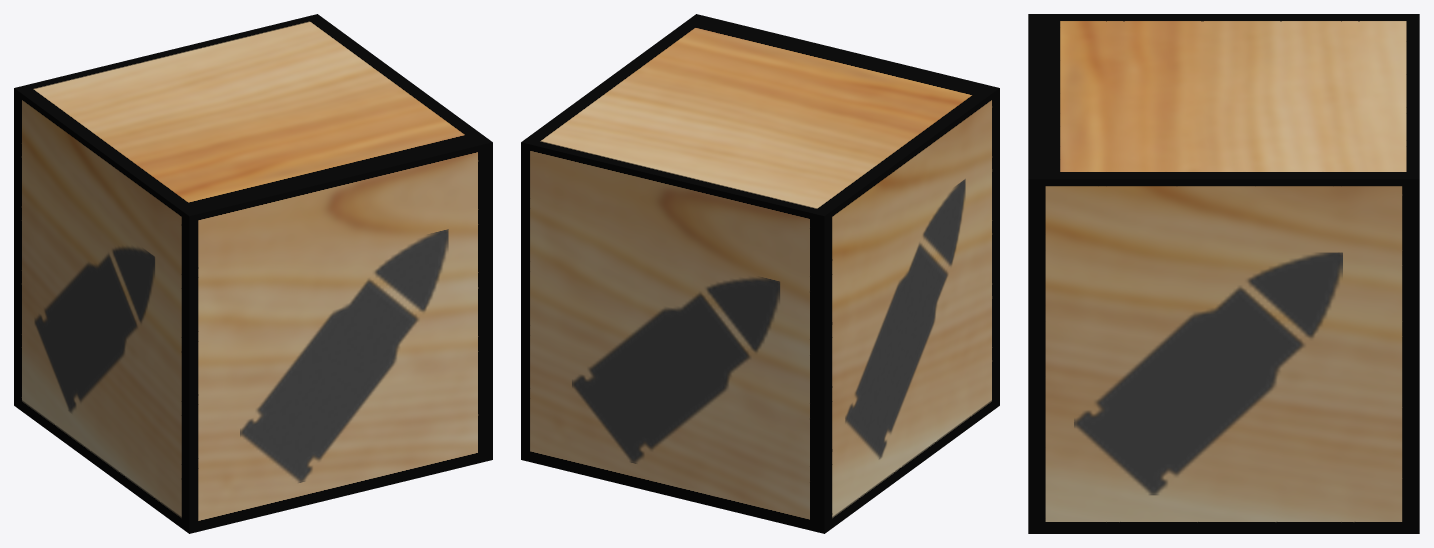
Rendered from ItemBox.FBX.
3 views of the same model, side by side, from view 1: azimuth 30°, elevation 25°; view 2: azimuth 150°, elevation 25°; view 3: azimuth 270°, elevation 25° (orthographic). The views are drawn at different scales.
Parts seen in each view (by area): view 1: Box001; view 2: Box001; view 3: Box001.
Boxes of the visible parts, box(x1,y1,x2,y2) form: Box001: box(14, 14, 492, 533); Box001: box(521, 14, 999, 533); Box001: box(1028, 14, 1419, 533).
Size of the model in its own units: 64 by 64 by 64.
Materials: 1 (1 with a texture image).
